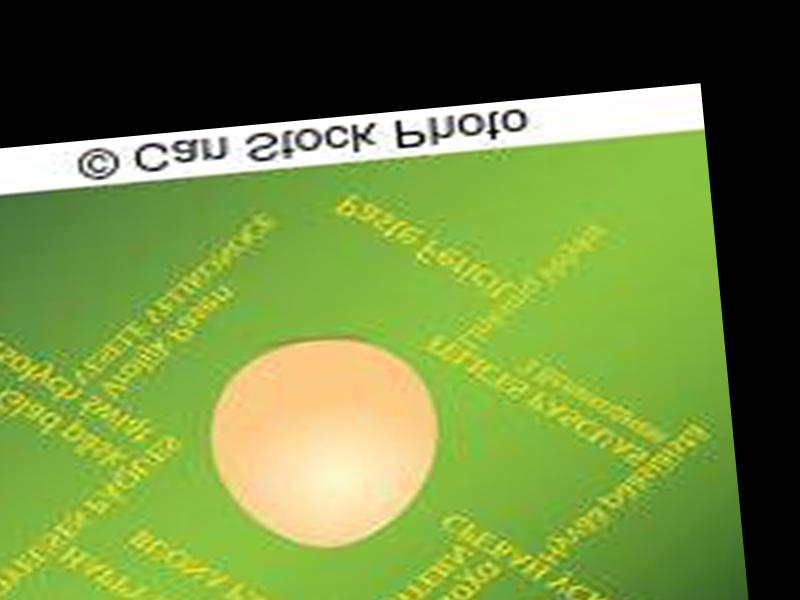Eggs: (203, 330, 444, 556)
